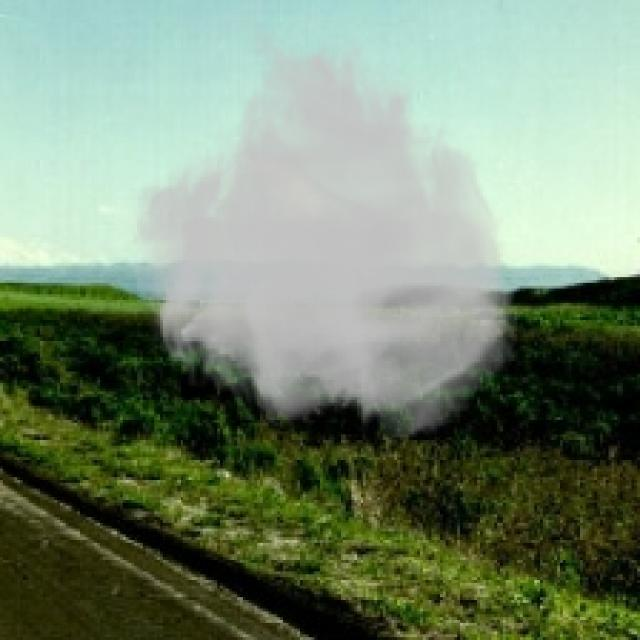Smoke: (128, 23, 520, 443)
